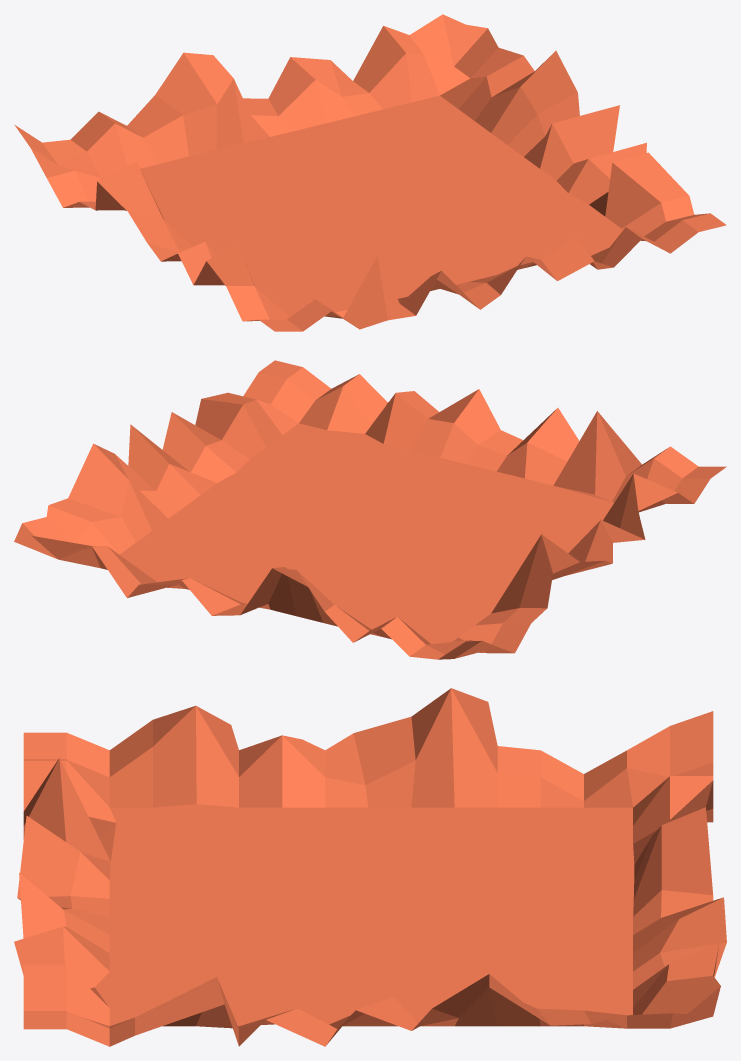
The model's file is land1.fbx.
The picture shows the model from 3 angles, top to bottom: view 1: azimuth 30°, elevation 25°; view 2: azimuth 150°, elevation 25°; view 3: azimuth 270°, elevation 25°; orthographic projection. The views are drawn at different scales.
Visible parts, largest first — view 1: land1; view 2: land1; view 3: land1.
Part boxes in pixels (<box>): land1: <box>14,14,726,331</box>; land1: <box>14,360,726,659</box>; land1: <box>14,688,726,1046</box>.
Bounding box in the file's own units: 62.89 × 10.76 × 62.03.
